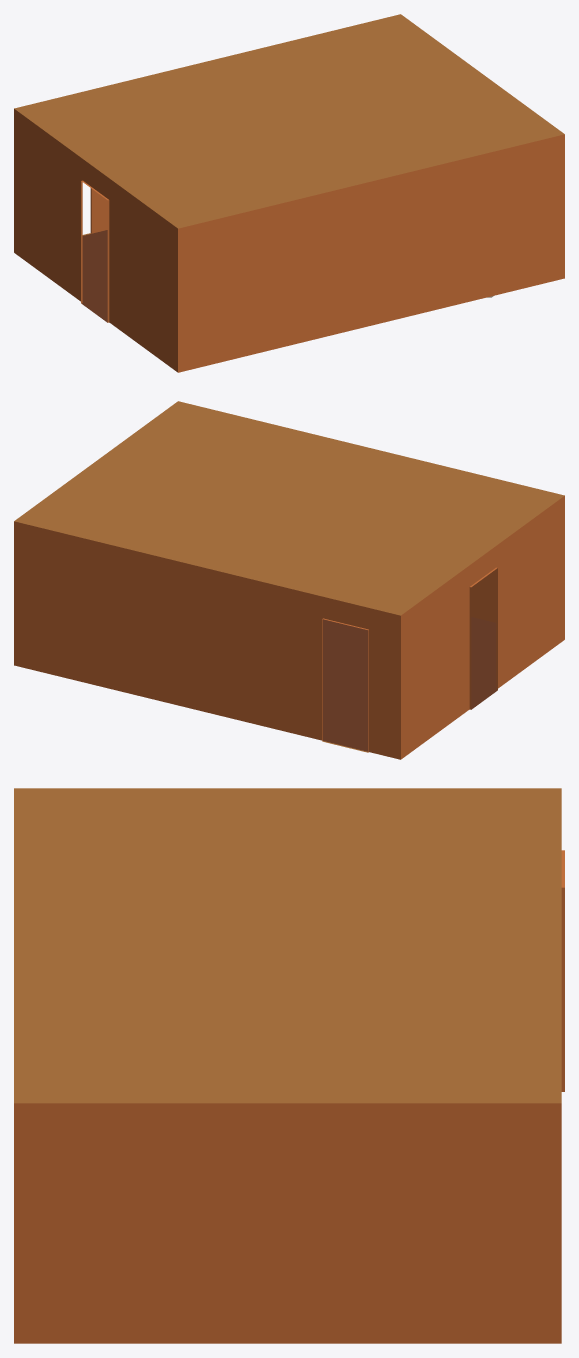
Rendered from room_3.glb.
The picture shows the model from 3 angles, top to bottom: view 1: azimuth 30°, elevation 25°; view 2: azimuth 150°, elevation 25°; view 3: azimuth 270°, elevation 25°; orthographic projection. The views are drawn at different scales.
Visible parts, largest first — view 1: komnata_3; view 2: komnata_3; view 3: komnata_3.
Boxes of the visible parts, x1=… form: komnata_3: x1=14, y1=14, x2=564, y2=372; komnata_3: x1=14, y1=401, x2=564, y2=759; komnata_3: x1=14, y1=788, x2=564, y2=1343.
Size of what is drawn, in the model's own units: 7.03 by 2.53 by 5.17.
Materials: 2 (2 with a texture image).
